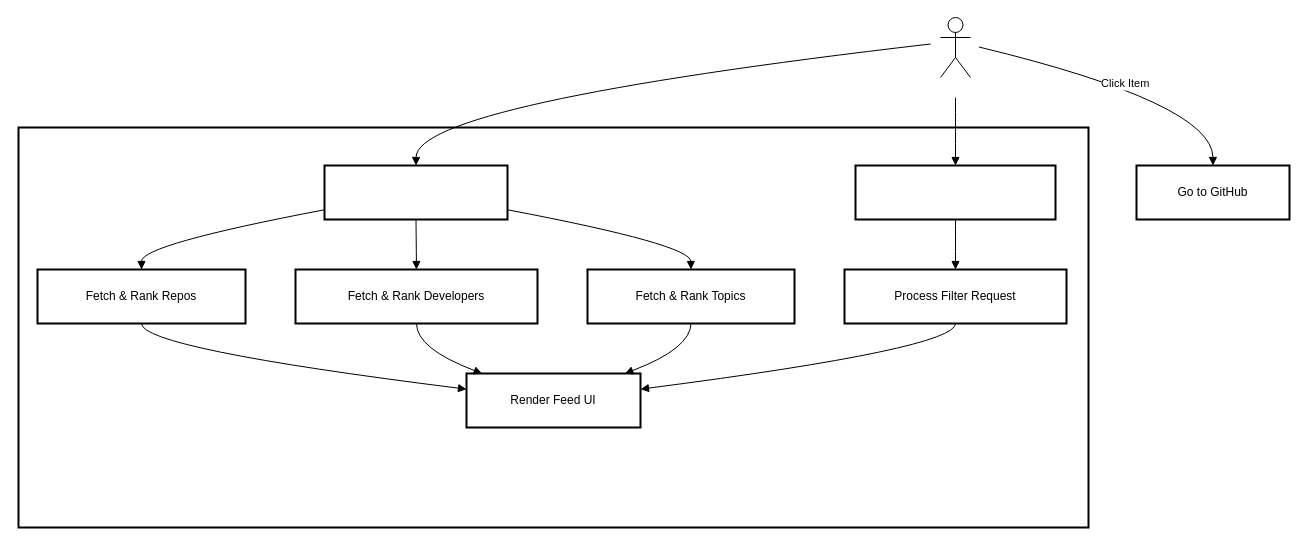
The diagram is 1307 pixels wide and 546 high, and some of its shapes have lost their labels. The shapes that lost their labels are listed below. From the top down, each one's centre as x and y in pixels, then its label:
(x=955, y=47): Actor
(x=415, y=192): View Social Feed
(x=955, y=192): Filter Feed by Topic
